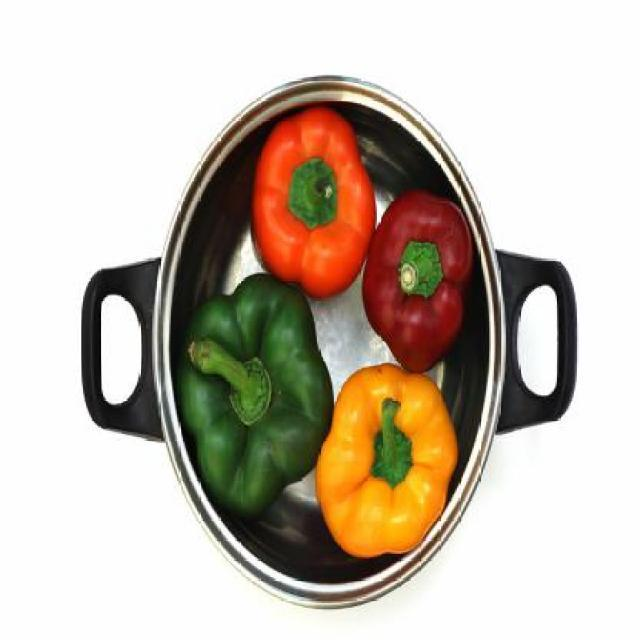Bell pepper: (179, 274, 338, 520), (314, 359, 460, 558), (250, 108, 378, 300), (360, 188, 476, 372)
